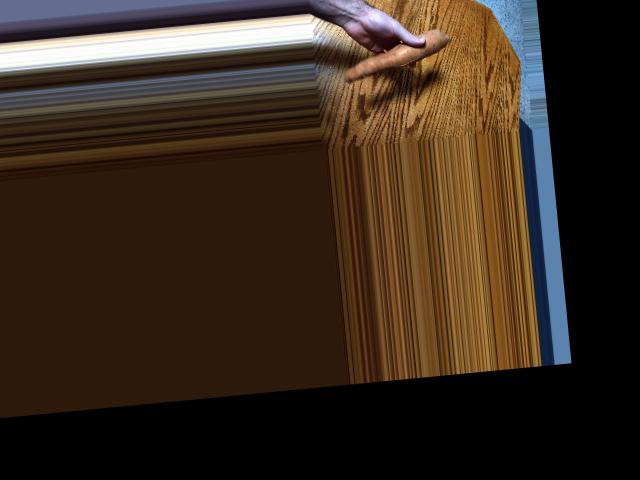sweet_potato: (335, 34, 449, 75)
